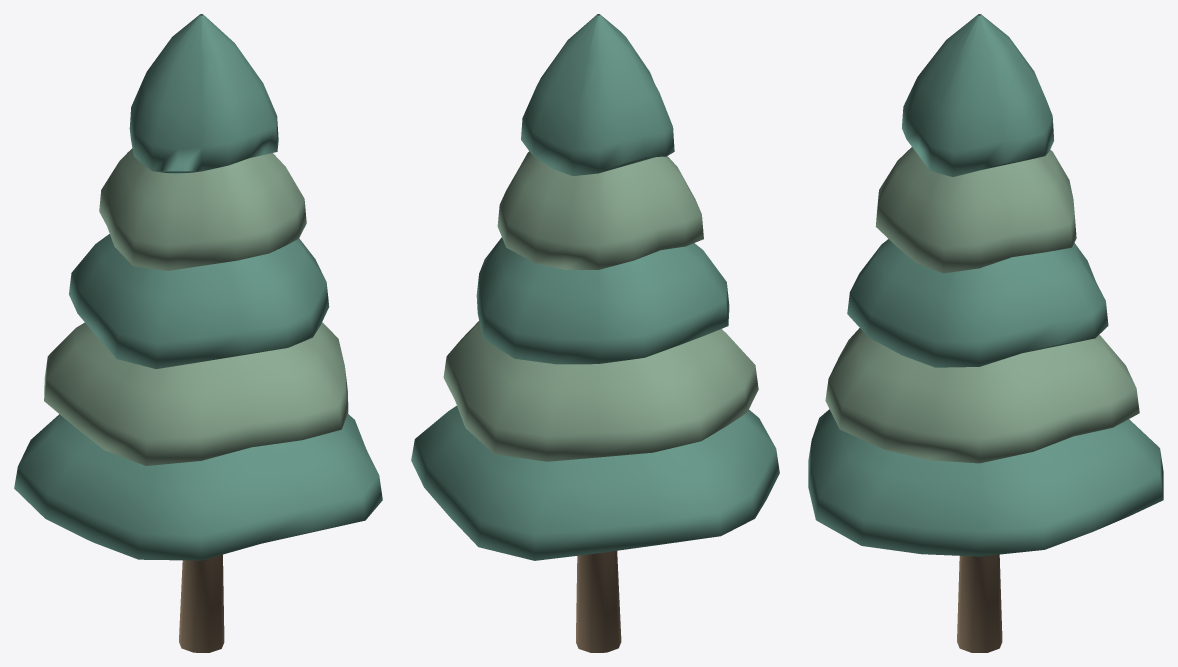
Rendered from SM_Pine_01_UV_0073.fbx.
The picture shows the model from 3 angles, left to right: view 1: azimuth 30°, elevation 25°; view 2: azimuth 150°, elevation 25°; view 3: azimuth 270°, elevation 25°; orthographic projection.
Visible parts, largest first — view 1: SM_Pine_01_UV_0073; view 2: SM_Pine_01_UV_0073; view 3: SM_Pine_01_UV_0073.
Part boxes in pixels (x1,y1,x2,y2): SM_Pine_01_UV_0073: (14,14,382,652); SM_Pine_01_UV_0073: (411,14,779,652); SM_Pine_01_UV_0073: (808,14,1163,652).
Bounding box in the file's own units: 622 × 613 × 1196.
